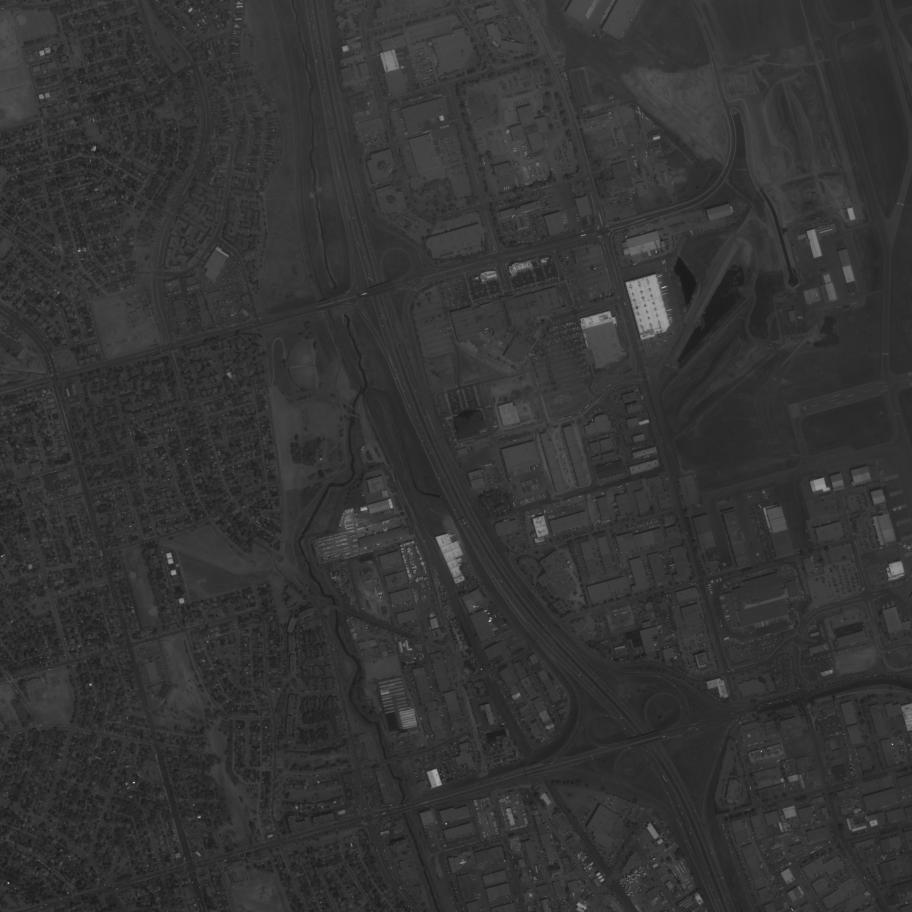plane: (744, 491, 754, 501), (760, 488, 768, 497), (890, 505, 898, 514), (720, 560, 728, 568), (896, 503, 904, 511), (754, 550, 761, 558), (901, 542, 908, 549), (905, 544, 912, 551)
